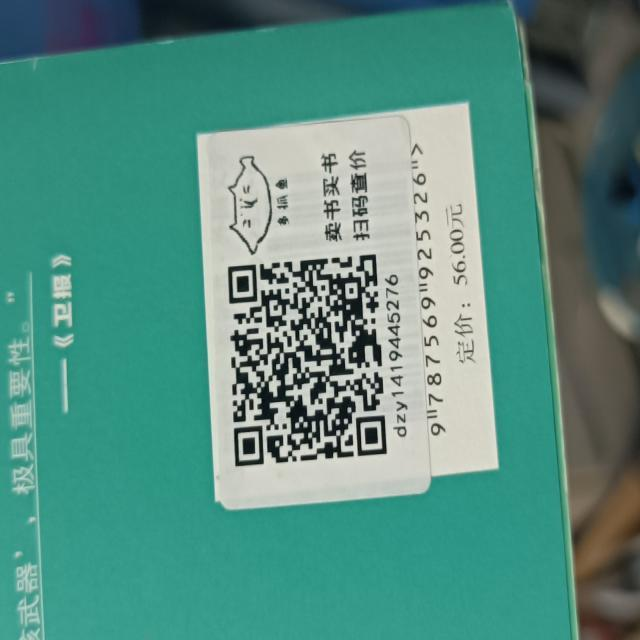qr_code: (227, 253, 388, 470)
